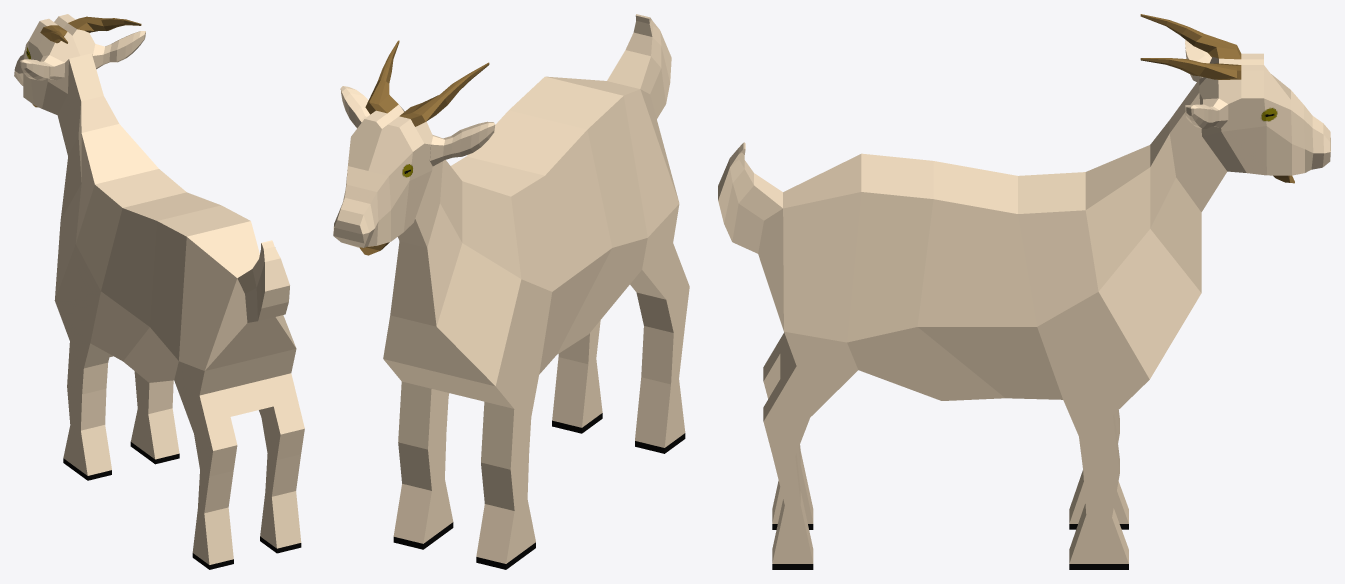
File: GoatVanilla.fbx
The picture shows the model from 3 angles, left to right: view 1: azimuth 30°, elevation 25°; view 2: azimuth 150°, elevation 25°; view 3: azimuth 270°, elevation 25°; orthographic projection. The views are drawn at different scales.
Visible parts, largest first — view 1: GoatVanilla; view 2: GoatVanilla; view 3: GoatVanilla.
Part boxes in pixels (x1,y1,x2,y2): GoatVanilla: [14, 14, 304, 569]; GoatVanilla: [333, 14, 689, 569]; GoatVanilla: [718, 14, 1330, 569].
Bounding box in the file's own units: 272 × 864 × 948.
Materials: 1 (1 with a texture image).
